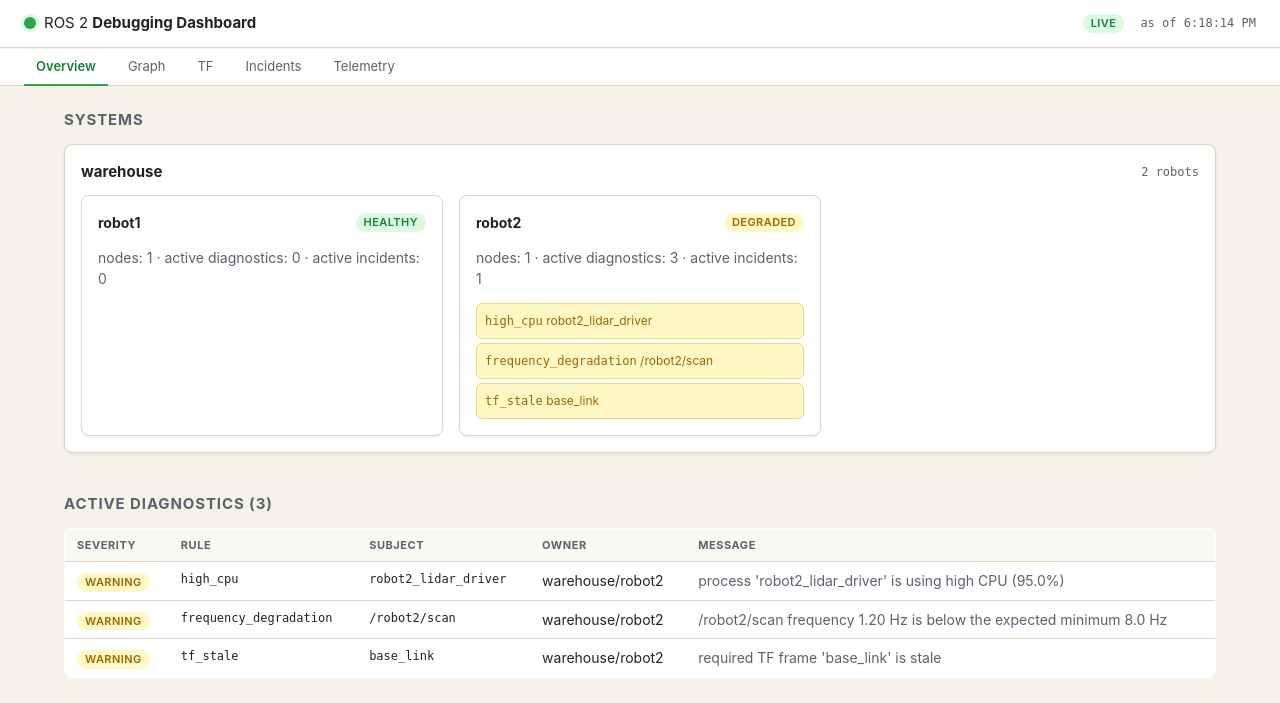
Test case: App › navigates to the TF tree view and highlights a stale frame
The image size is (1280, 703).
expect the text "LIVE" is shown: met, box x1=1083 y1=14 x2=1124 y2=32
Click the link "TF".
click(205, 65)  # box x1=197 y1=57 x2=214 y2=73
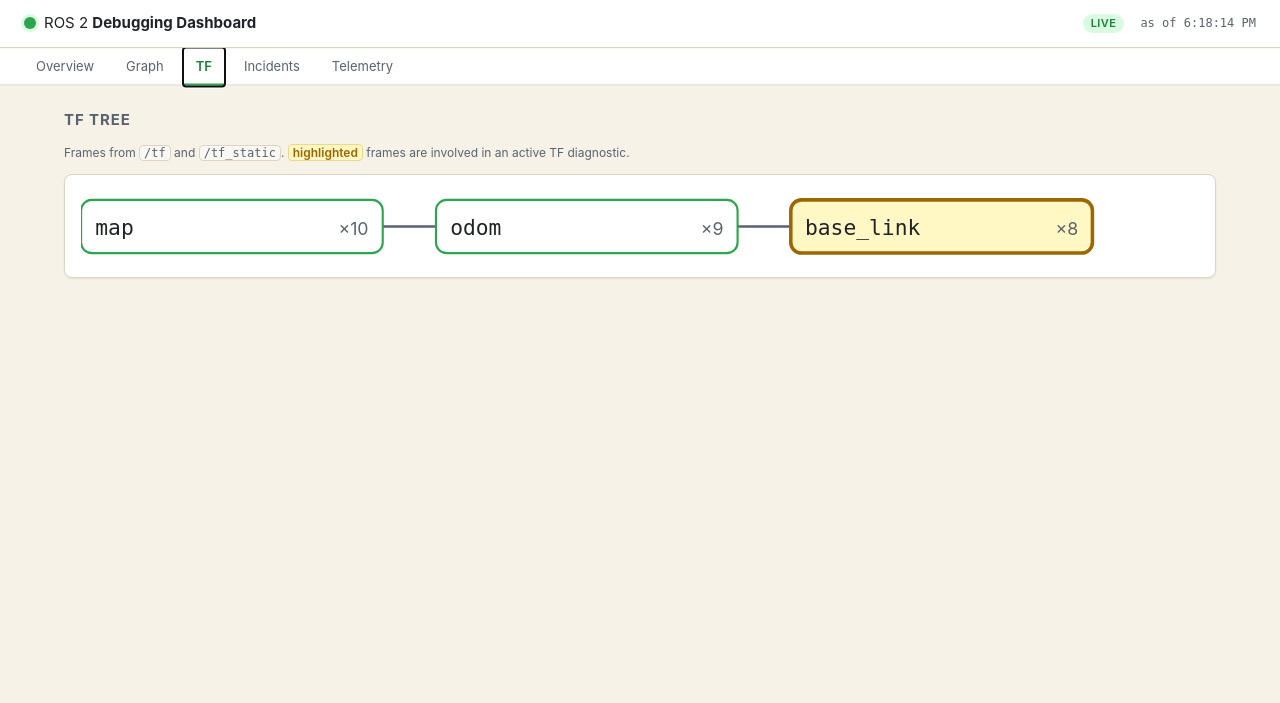
expect the text "map" is shown: met, box x1=95 y1=215 x2=134 y2=240
expect the heading "TF tree" is shown: met, box x1=64 y1=110 x2=131 y2=129
